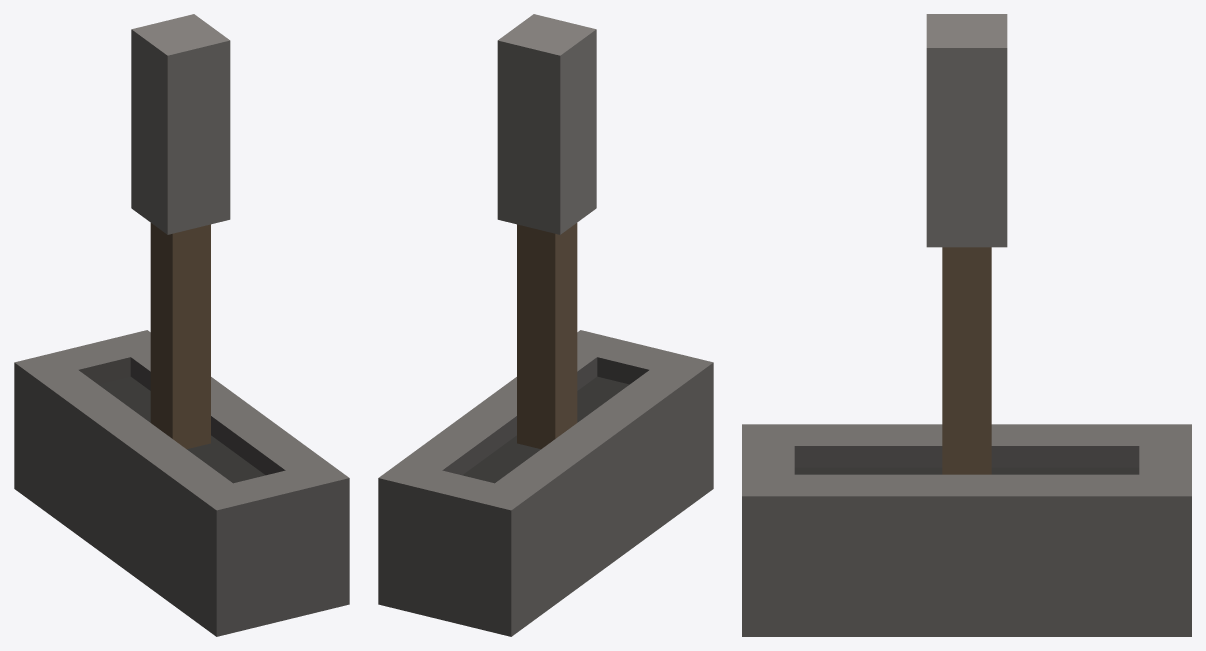
File: SD_Prop_Lever_Floor_01.fbx
3 views of the same model, side by side, from view 1: azimuth 30°, elevation 25°; view 2: azimuth 150°, elevation 25°; view 3: azimuth 270°, elevation 25° (orthographic). The views are drawn at different scales.
Visible parts, largest first — view 1: SD_Prop_Lever_Floor_01, Handle; view 2: SD_Prop_Lever_Floor_01, Handle; view 3: SD_Prop_Lever_Floor_01, Handle.
Boxes of the visible parts, <box> form: SD_Prop_Lever_Floor_01: <box>14,330,349,636</box>; Handle: <box>131,14,230,449</box>; SD_Prop_Lever_Floor_01: <box>378,330,713,636</box>; Handle: <box>497,14,596,449</box>; SD_Prop_Lever_Floor_01: <box>742,424,1191,636</box>; Handle: <box>926,14,1007,474</box>.
Bounding box in the file's own units: 0.4924 × 1.81 × 1.3.
